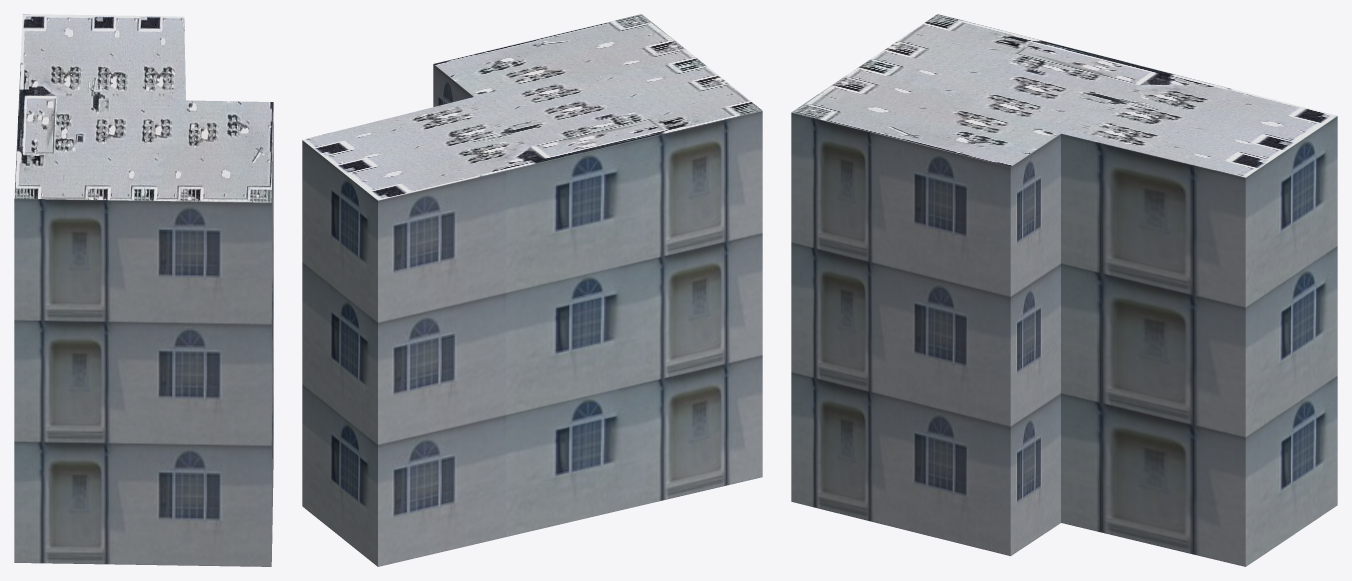
Rendered from ResTex__5218.fbx.
3 renders of one model, left to right at view 1: azimuth 30°, elevation 25°; view 2: azimuth 150°, elevation 25°; view 3: azimuth 270°, elevation 25°, orthographic. The views are drawn at different scales.
Visible parts, largest first — view 1: CityEngineMaterial_17_m, CityEngineMaterial_4_m; view 2: CityEngineMaterial_17_m, CityEngineMaterial_4_m; view 3: CityEngineMaterial_17_m, CityEngineMaterial_4_m.
Boxes of the visible parts, left/top/right/bottom form: CityEngineMaterial_17_m: left=14, top=105, right=273, bottom=566; CityEngineMaterial_4_m: left=14, top=14, right=273, bottom=202; CityEngineMaterial_17_m: left=302, top=64, right=762, bottom=566; CityEngineMaterial_4_m: left=302, top=14, right=762, bottom=200; CityEngineMaterial_17_m: left=791, top=112, right=1337, bottom=566; CityEngineMaterial_4_m: left=791, top=14, right=1336, bottom=177.
Bounding box in the file's own units: 8.12 × 9 × 11.45.
2 materials, 2 textured.
